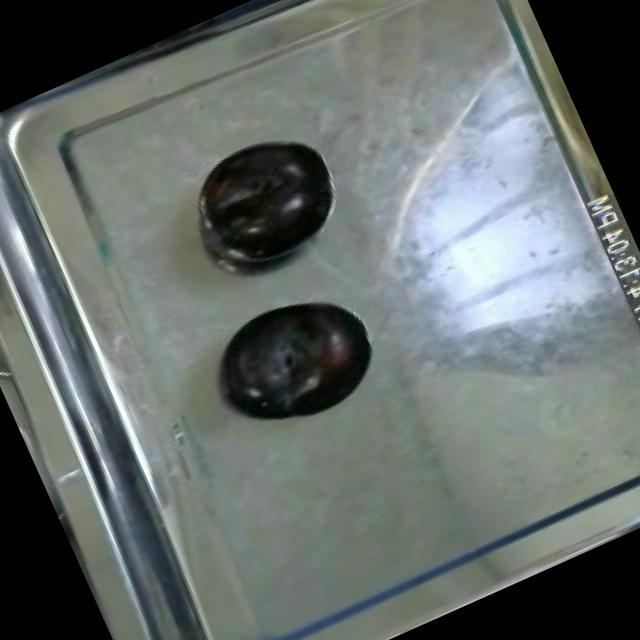Fruit: (206, 274, 396, 448), (181, 116, 353, 280)
